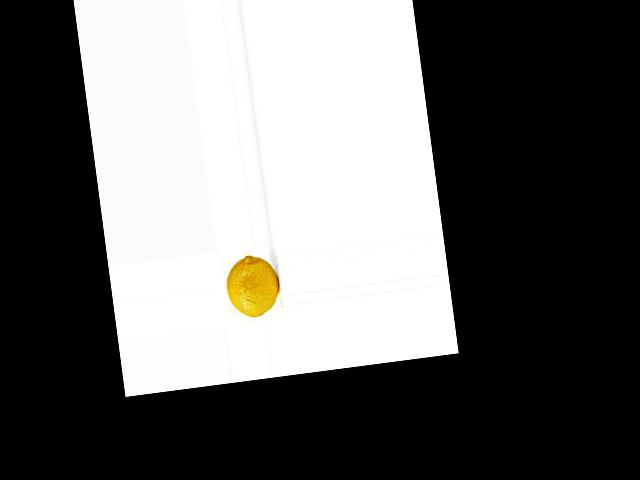lemon: (220, 242, 284, 326)
